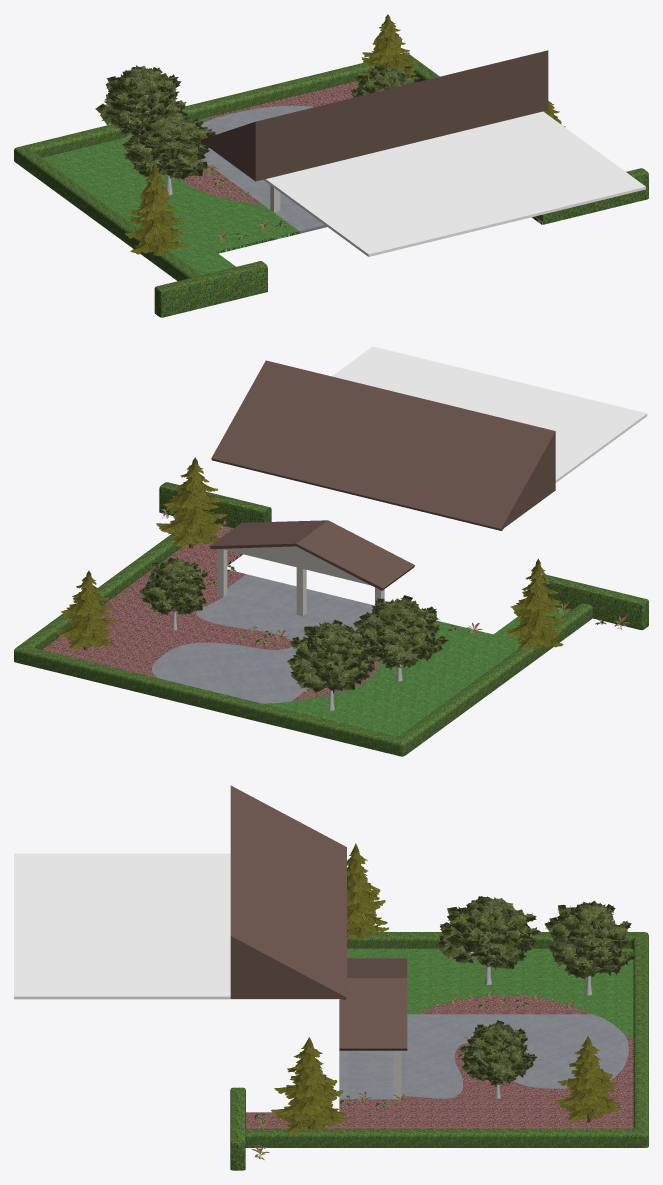
File: KBH_Interior_model2435_yard.gltf
3 renders of one model, top to bottom at view 1: azimuth 30°, elevation 25°; view 2: azimuth 150°, elevation 25°; view 3: azimuth 270°, elevation 25°, orthographic. The views are drawn at different scales.
Parts seen in each view (by area): view 1: Line23743, Line23742, Line23751, Line23080, tree6_leaves_001, tree6_leaves_0, Box8360, Leaves/001_Leavs_002, Box8204, Leaves/001_Leavs_0, Line23747, Box8308 (+3 smaller); view 2: Line23742, Line23080, Line23743, Line23751, Line23749, Box8204, Line23752, Line23747, tree6_leaves_0, tree6_leaves_001, Leaves/001_Leavs_001, Box8360 (+5 smaller); view 3: Line23743, Line23742, Line23080, Line23749, Line23751, Box8204, Line23752, tree6_leaves_001, tree6_leaves_0, Line23747, Leaves/001_Leavs_001, tree6_leaves_002 (+4 smaller).
Part boxes in pixels (x1,y1,x2,y2): Line23743: (263,111,645,256); Line23742: (200,50,548,181); Line23751: (42,116,299,274); Line23080: (14,52,439,280); tree6_leaves_001: (122,110,216,182); tree6_leaves_0: (95,65,186,138); Box8360: (154,261,267,317); Leaves/001_Leavs_002: (125,163,187,256); Box8204: (203,108,307,204); Leaves/001_Leavs_0: (358,14,418,82); Line23747: (197,105,326,233); Box8308: (535,168,648,224); Line23742: (211,360,555,530); Line23080: (14,510,592,756); Line23743: (332,346,647,482); Line23751: (263,606,570,736); Line23749: (42,523,292,677); Box8204: (157,600,321,700); Line23752: (209,520,414,590); Line23747: (151,574,374,703); tree6_leaves_0: (287,620,375,693); tree6_leaves_001: (353,595,448,670); Leaves/001_Leavs_001: (156,457,226,546); Box8360: (542,574,648,630); Line23743: (14,853,340,999); Line23742: (230,785,346,1000); Line23080: (245,932,648,1147); Line23749: (246,1034,633,1128); Line23751: (347,948,633,1039); Box8204: (407,1016,622,1096); Line23752: (339,958,407,1050); tree6_leaves_001: (435,896,540,970); tree6_leaves_0: (544,900,635,978); Line23747: (339,1014,628,1099); Leaves/001_Leavs_001: (271,1037,347,1134); tree6_leaves_002: (459,1020,537,1087).
Bounding box in the file's own units: 38.42 × 13.2 × 41.
